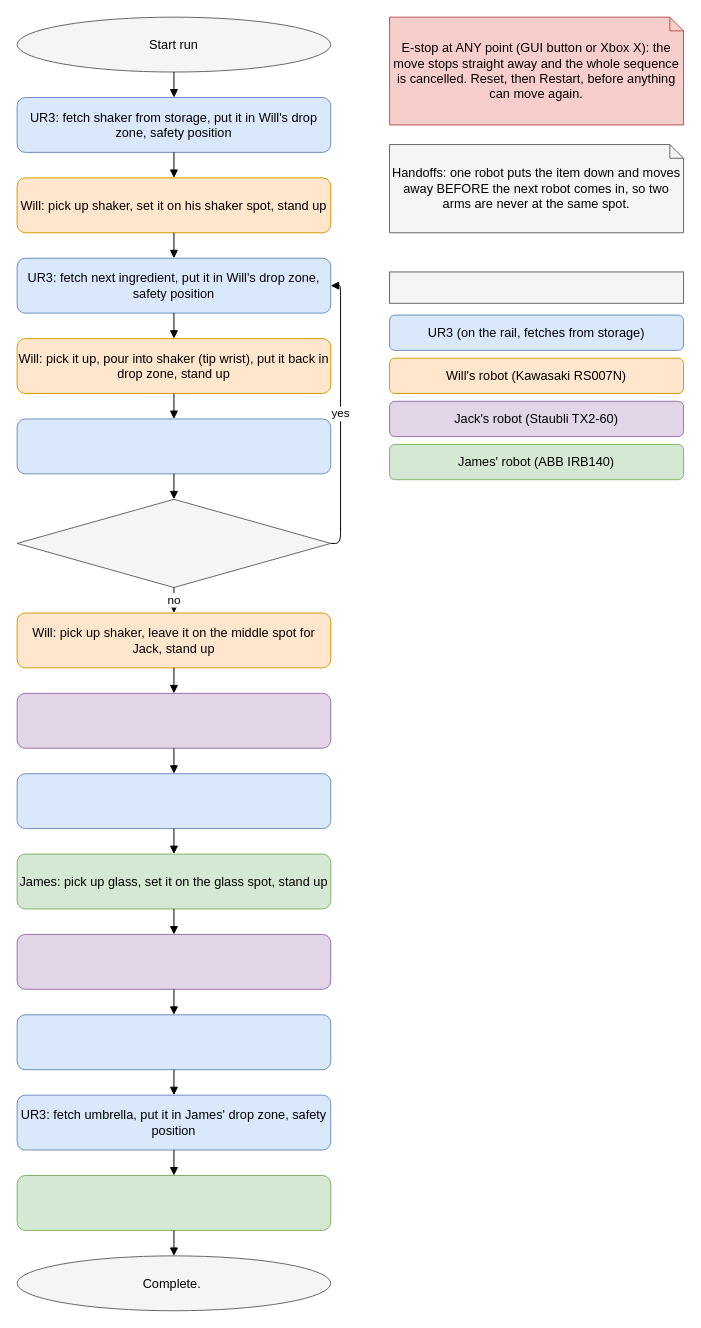
Image size: 701x1328. Some labels were removed from this diagram. The shapes that lost their labels are listed below. From the top down, each one's centre as x and y in pixels, then its label:
[536,287]: Legend
[173,446]: UR3: take ingredient back to its storage spot
[173,543]: More ingredients? (cognac, cointreau, lemon)
[173,720]: Jack: pick up shaker, spinny shake
[173,801]: UR3: fetch glass, put it in James' drop zone, safety position
[173,961]: Jack: pour shaker into the glass, put shaker in his drop zone, stand up
[173,1042]: UR3: take shaker back to storage
[173,1202]: James: pick up umbrella, put it in the glass, stand up
